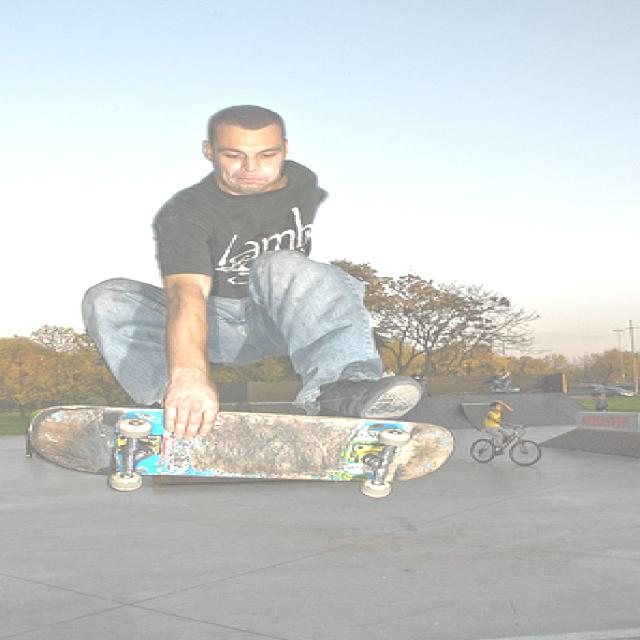Vehicle: (590, 386, 636, 398), (484, 384, 522, 393)
